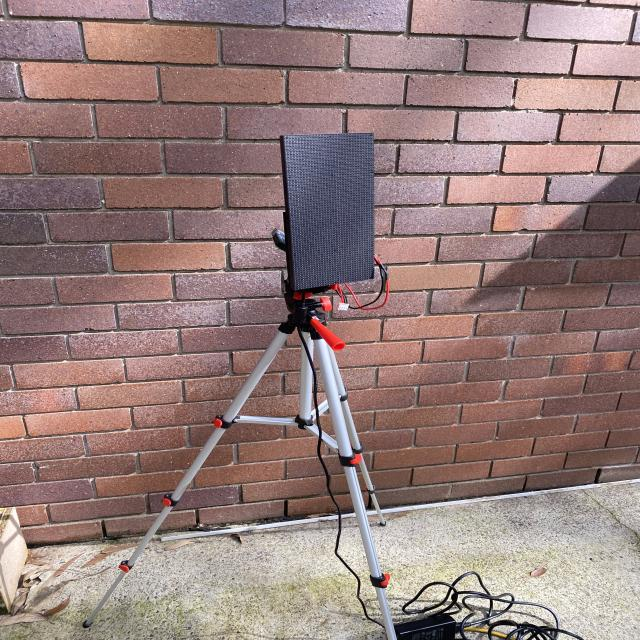matrix: (272, 128, 390, 293)
